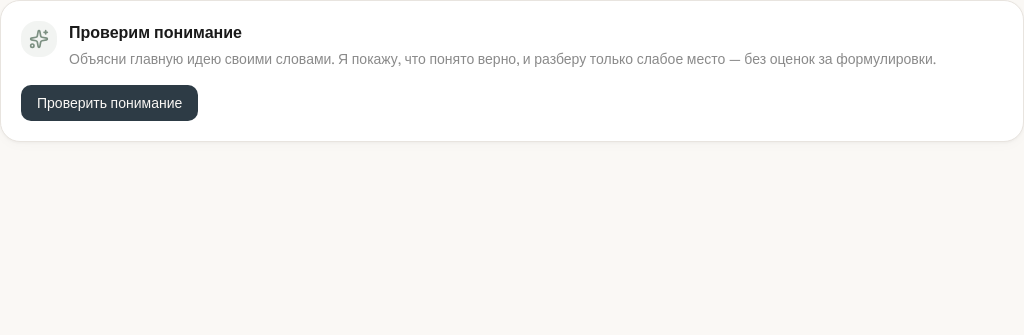
Test: ComprehensionCheck › asks the AI about the weak spot from the final summary
Later steps or results of the test are not shown.
Click the button with test id "comprehension-start" at (110, 103), box x1=21 y1=85 x2=198 y2=121
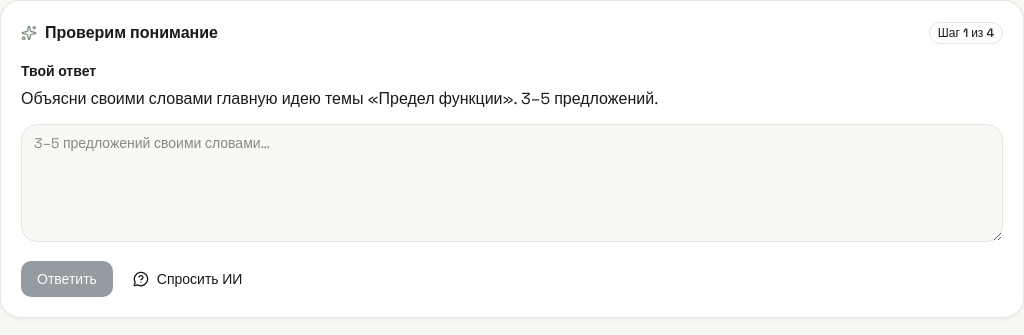
Result: the text "Объясни своими словами" is shown at x1=21 y1=88 x2=658 y2=109
Type "Предел — это про приближение." into the text box with test id "comprehension-answer" at (512, 183), box x1=21 y1=124 x2=1003 y2=242
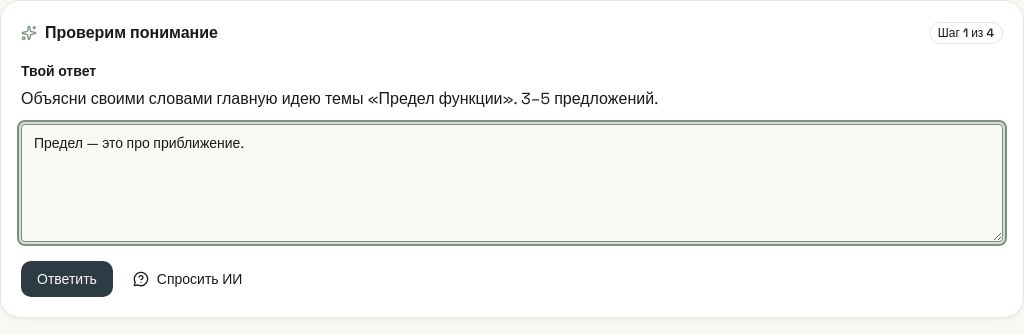
Click the button with test id "comprehension-submit" at (67, 279), box x1=21 y1=261 x2=113 y2=297
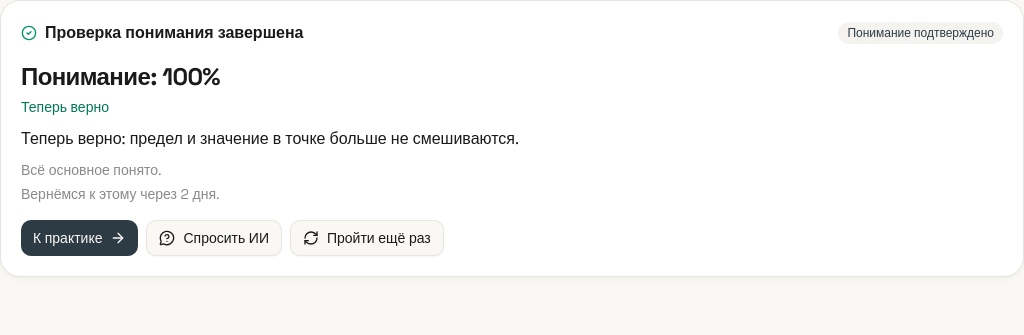
Result: the element with test id "comprehension-final" is shown
